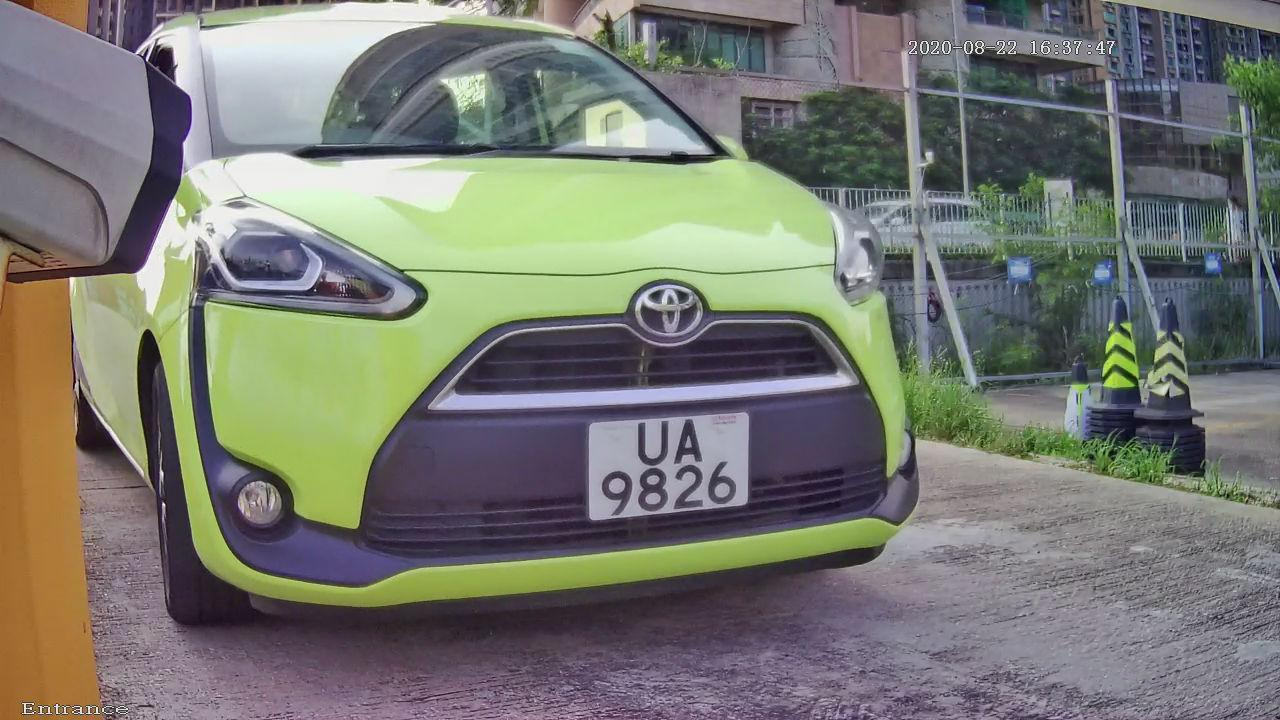Car: (1, 1, 1035, 685)
License Plate: (572, 402, 761, 534)
